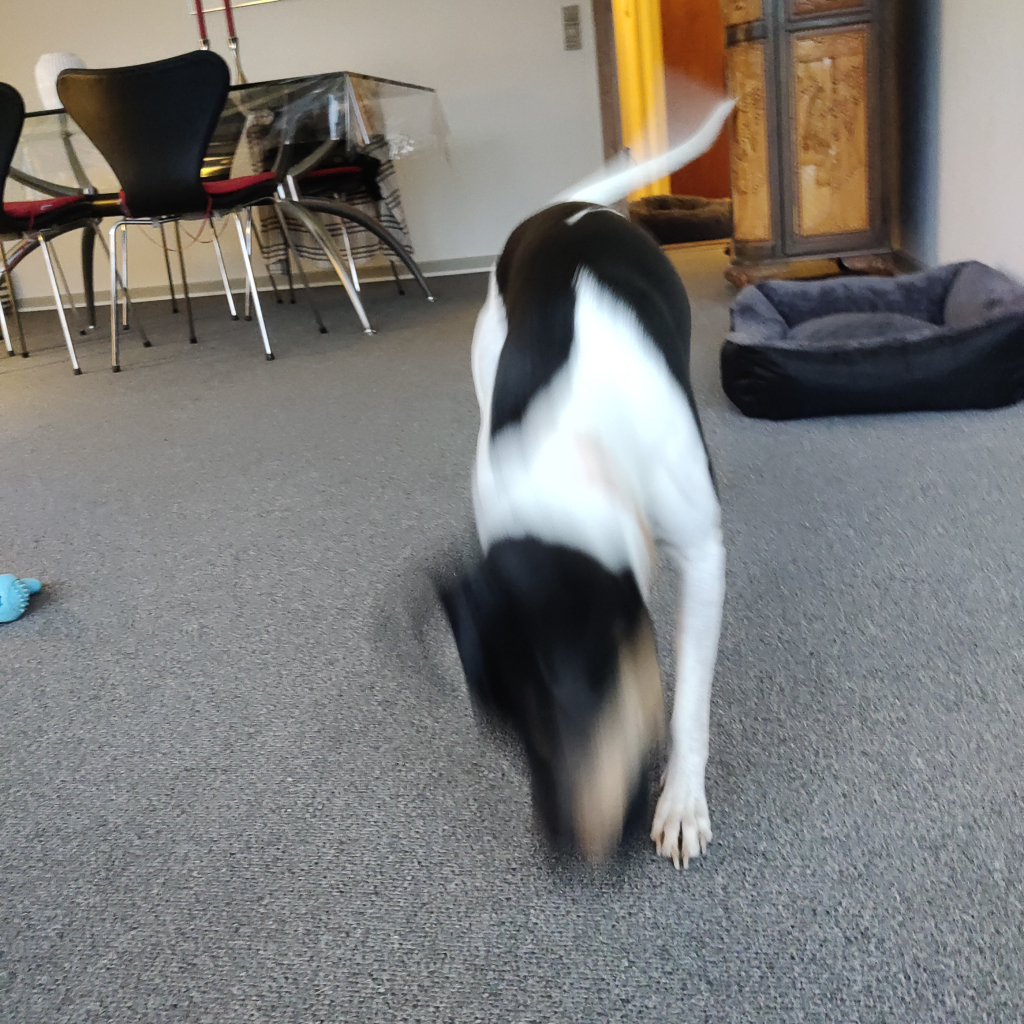Dog: (324, 46, 828, 931)
